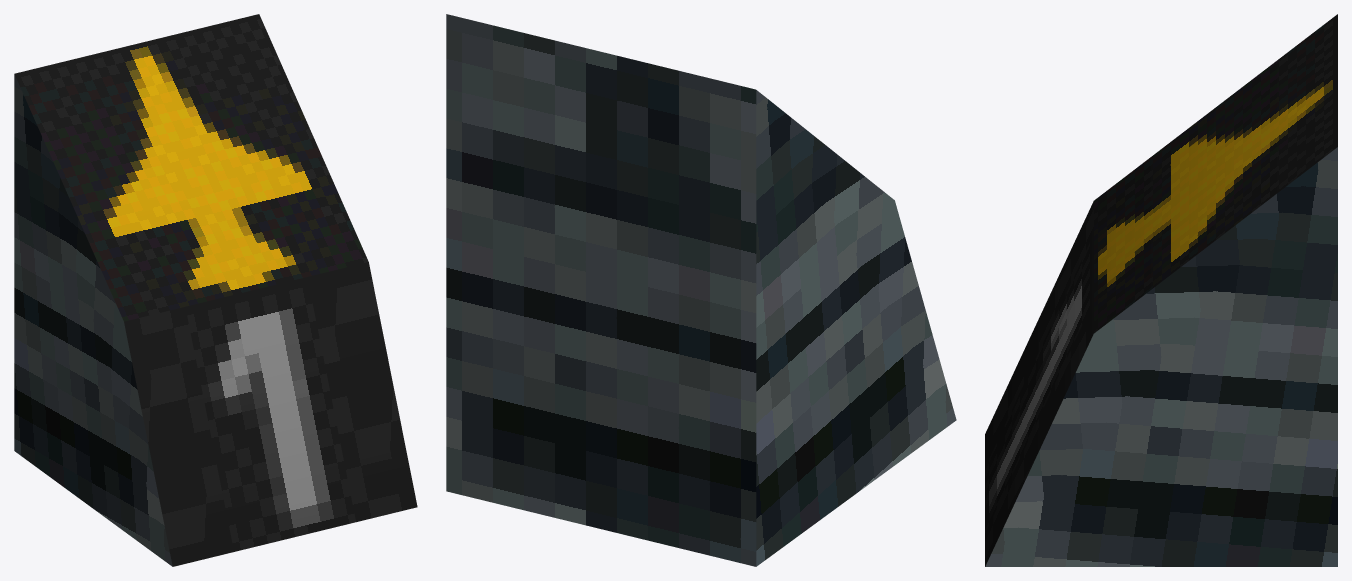
3 views of the same model, side by side, from view 1: azimuth 30°, elevation 25°; view 2: azimuth 150°, elevation 25°; view 3: azimuth 270°, elevation 25° (orthographic). The views are drawn at different scales.
Parts seen in each view (by area): view 1: Conft_obj_040; view 2: Conft_obj_040; view 3: Conft_obj_040.
Boxes of the visible parts, <box> form: Conft_obj_040: <box>14,14,417,566</box>; Conft_obj_040: <box>446,14,956,566</box>; Conft_obj_040: <box>985,14,1337,566</box>.
Bounding box in the file's own units: 0.5996 × 0.8828 × 0.6719.
Materials: 1 (1 with a texture image).
